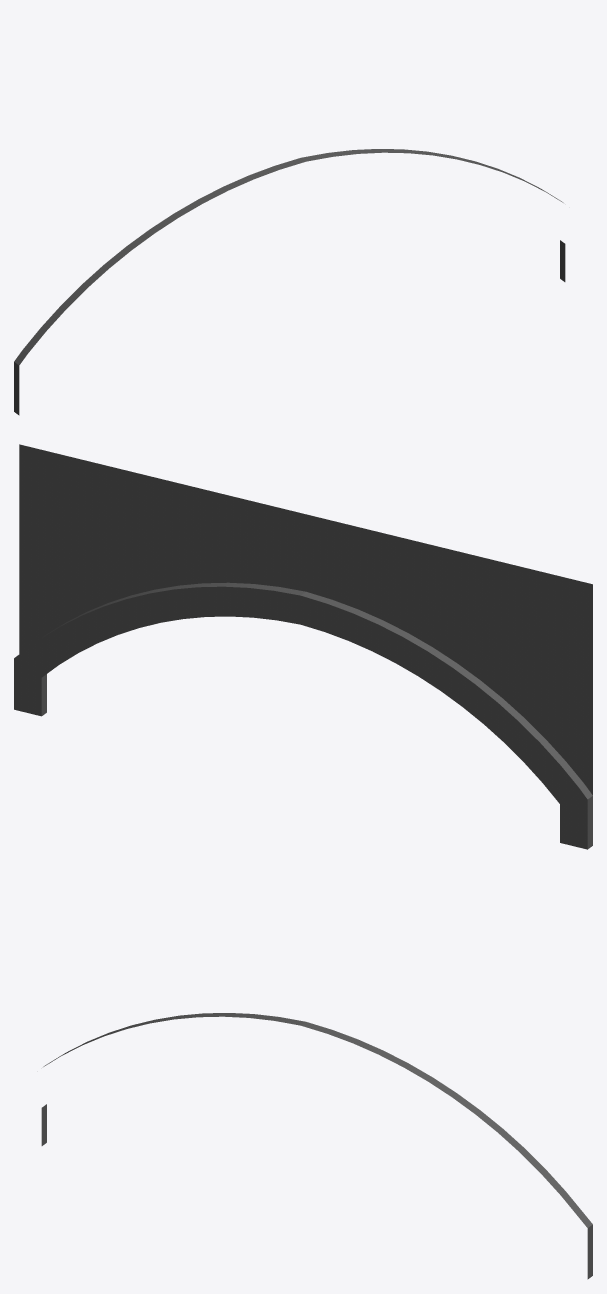
3 renders of one model, top to bottom at view 1: azimuth 30°, elevation 25°; view 2: azimuth 150°, elevation 25°; view 3: azimuth 330°, elevation 25°, orthographic.
Parts seen in each view (by area): view 1: _Mesh557; view 2: _Mesh557; view 3: _Mesh557.
Part boxes in pixels (<box>): _Mesh557: <box>14,149,565,415</box>; _Mesh557: <box>14,444,592,849</box>; _Mesh557: <box>41,1013,592,1279</box>.
Bounding box in the file's own units: 6.2 × 2.7 × 0.0999.
1 material, 1 textured.
